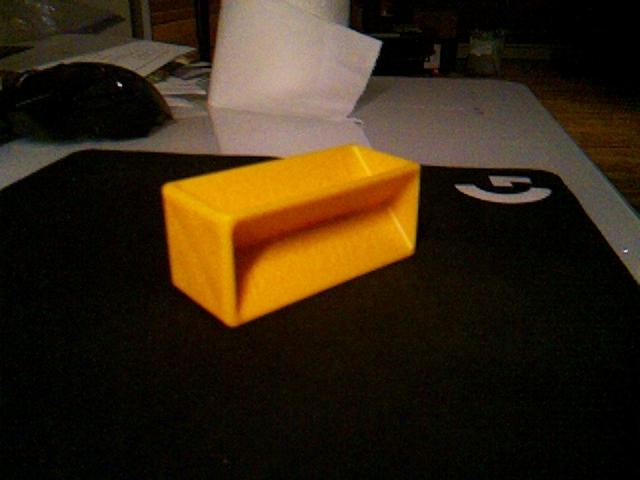yellow: (160, 143, 422, 329)
